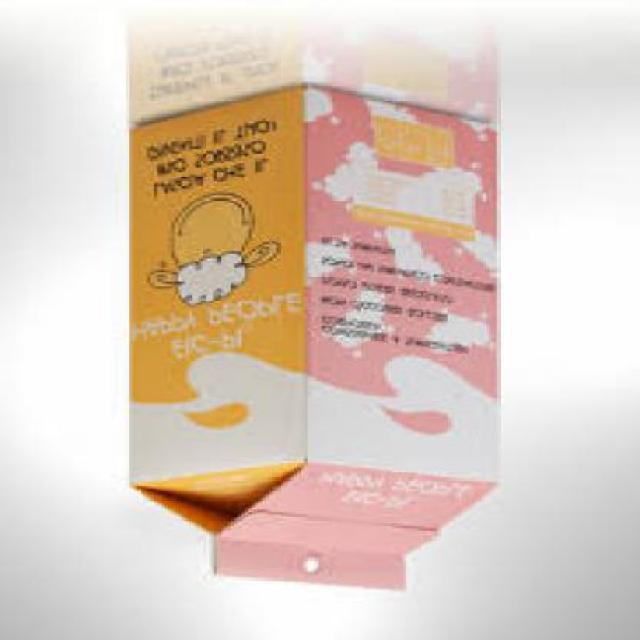CARDBOARD: (126, 89, 492, 593)
